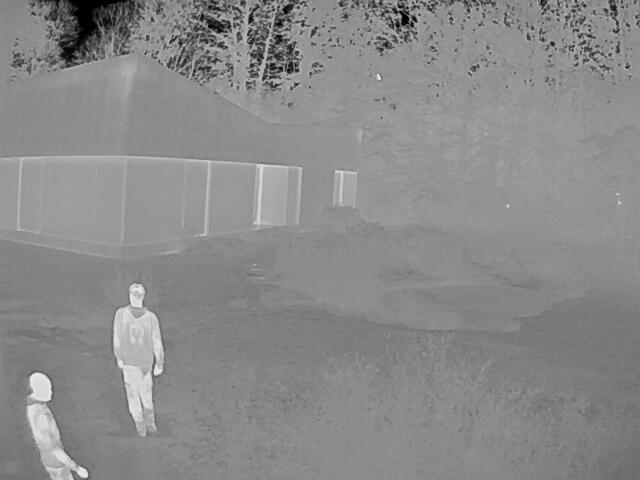person: (112, 282, 163, 436), (24, 371, 88, 479)
